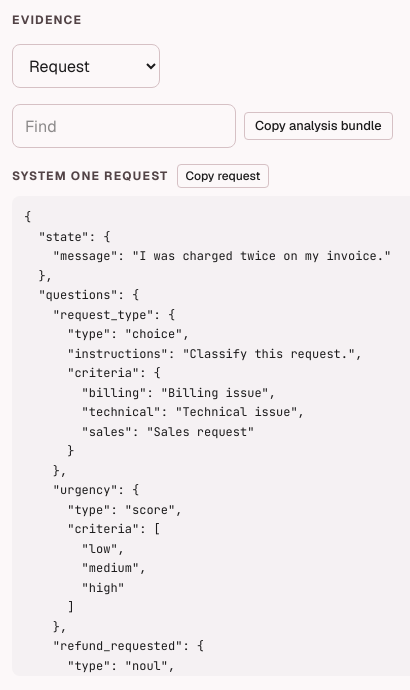
Test: EvidenceView — Find over the active payload (§45.4) › shows No matches for a query that misses every line
The width and height of the screenshot is (410, 690).
Type "nonexistent-key" into the search field with test id "find-input" at (124, 126), box top-left (12, 104), bottom-right (236, 148)
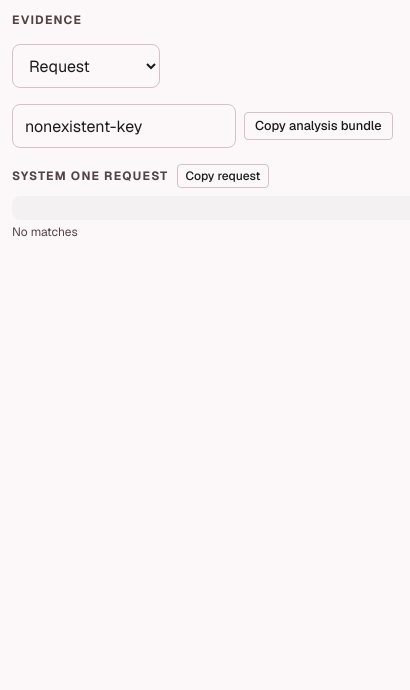
expect the text with test id "find-count" reads "No matches": met, box top-left (12, 224), bottom-right (78, 240)
